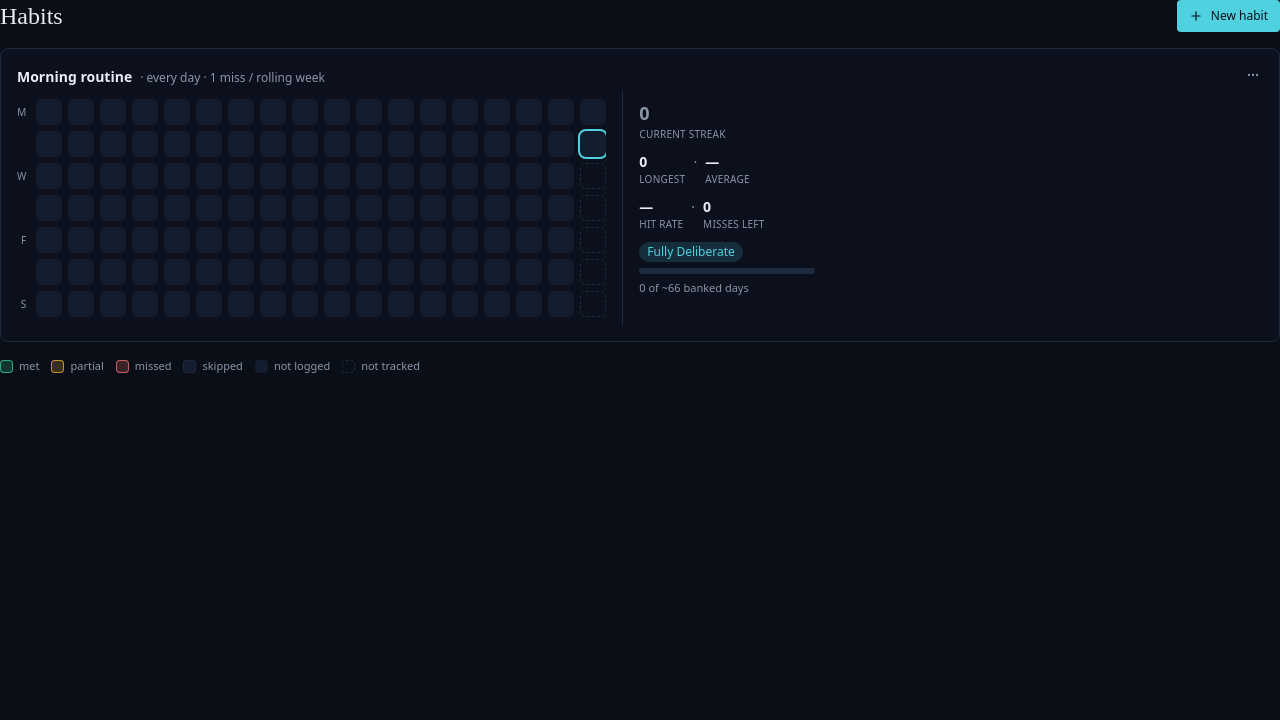
Test: HabitsView — the card menu › opens the delete confirm naming the habit, without deleting anything yet
Click the button named "Options for Morning routine": (1253, 75) [1243, 65, 1263, 85]
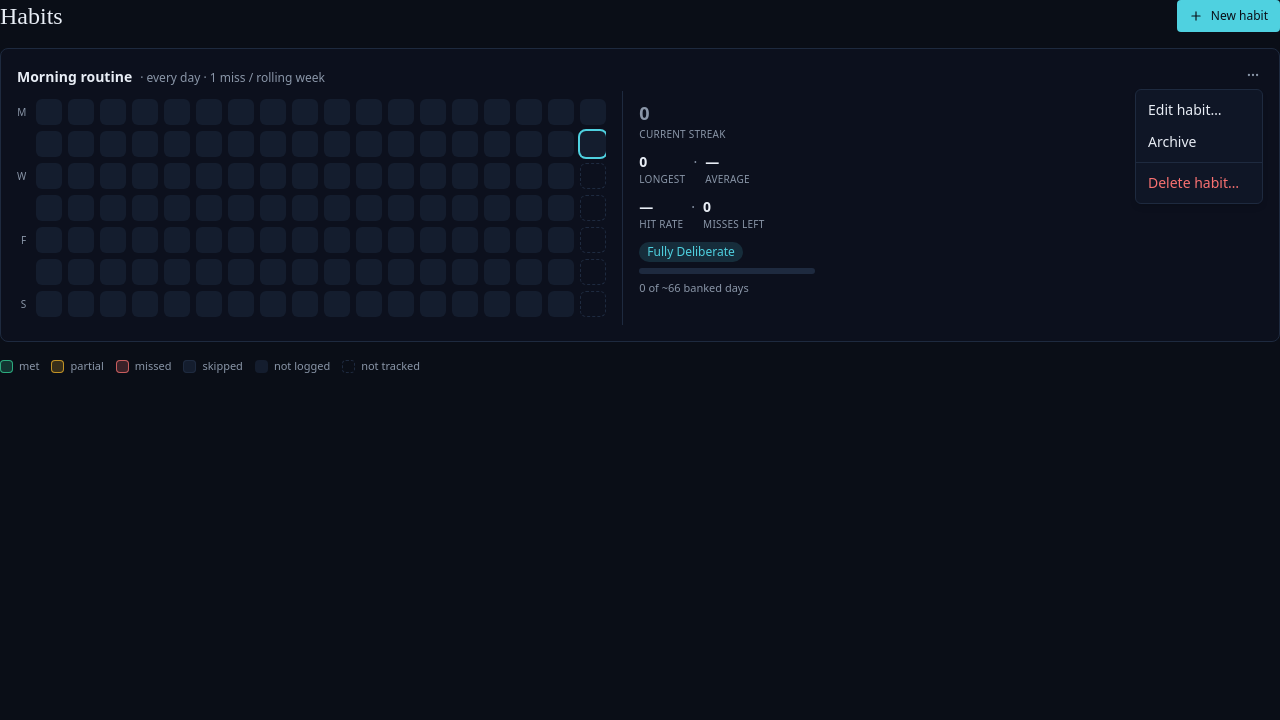
Click the menu item "Delete habit…": (1194, 182) [1148, 173, 1239, 192]
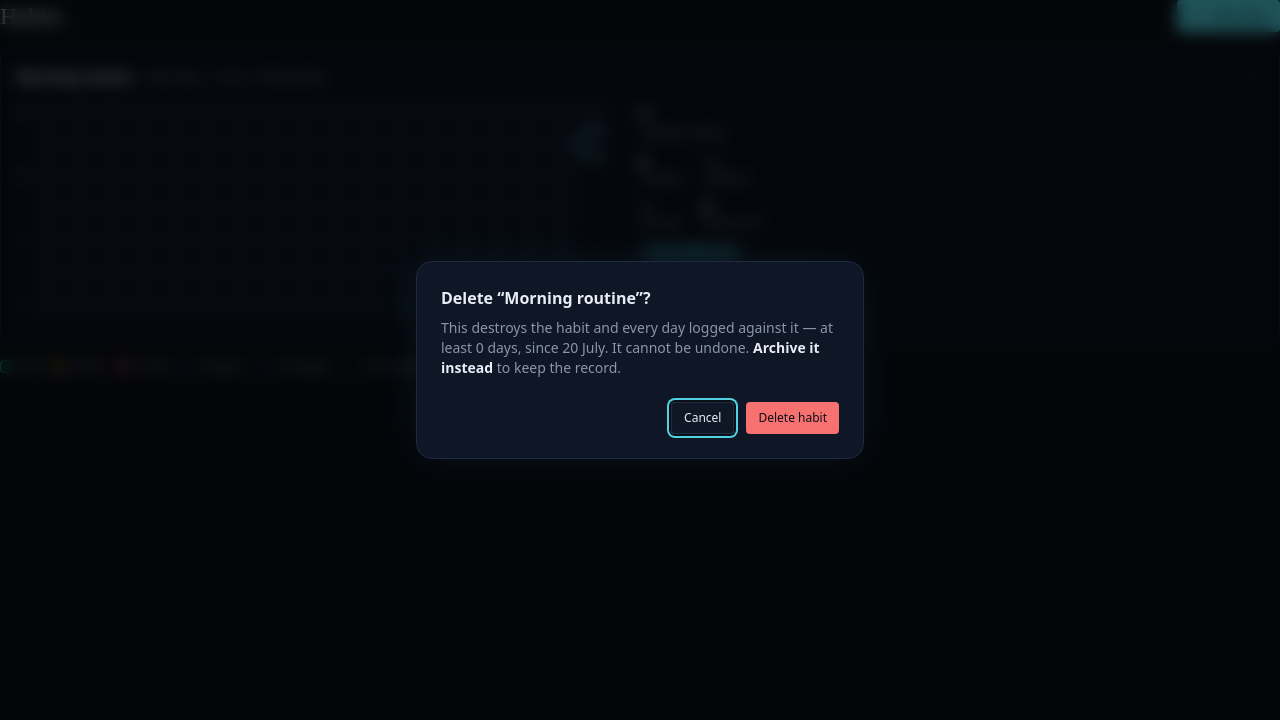
Result: the heading "Delete “Morning routine”?" is shown at [441, 287, 650, 309]
